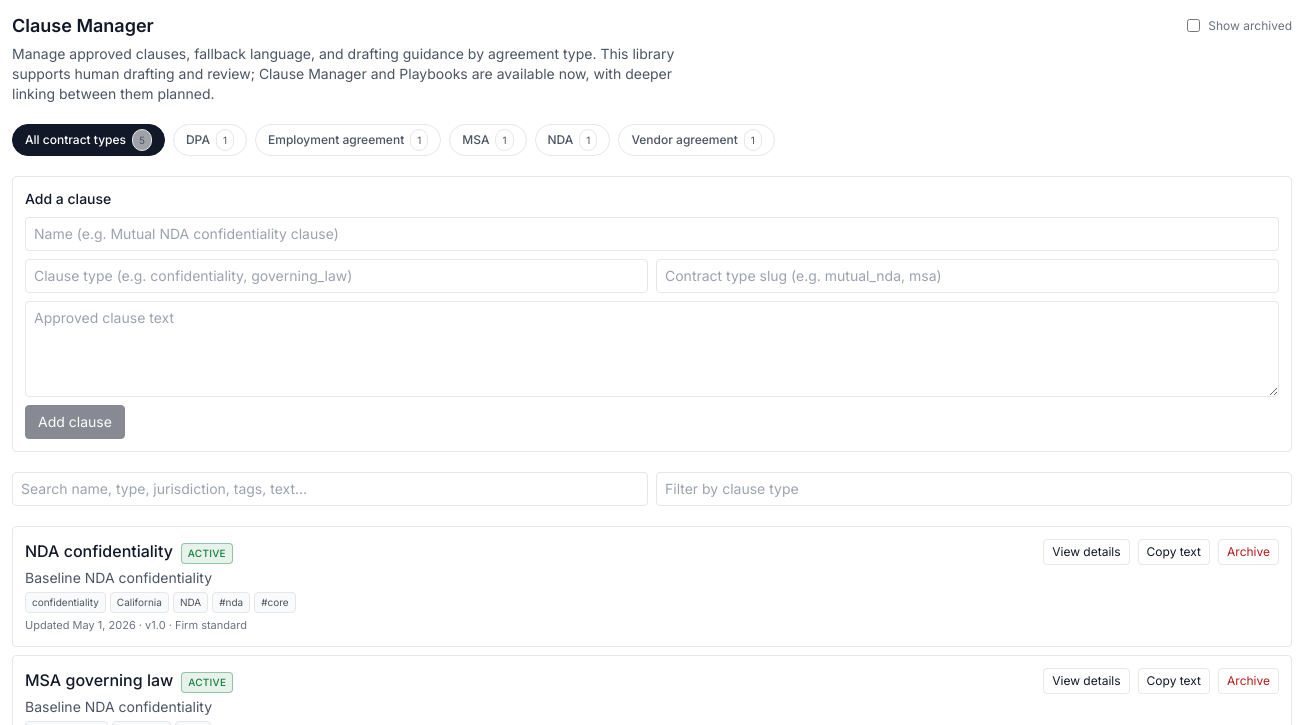
it: ClauseLibraryPage › shows a Reset filters button when any filter is active and clears all three
Expected: the text "NDA confidentiality" is shown, [25,539,173,563]
Type "nda" into the field with test id "clause-search".
click(330, 489); type("nda")  # box [12,472,648,506]
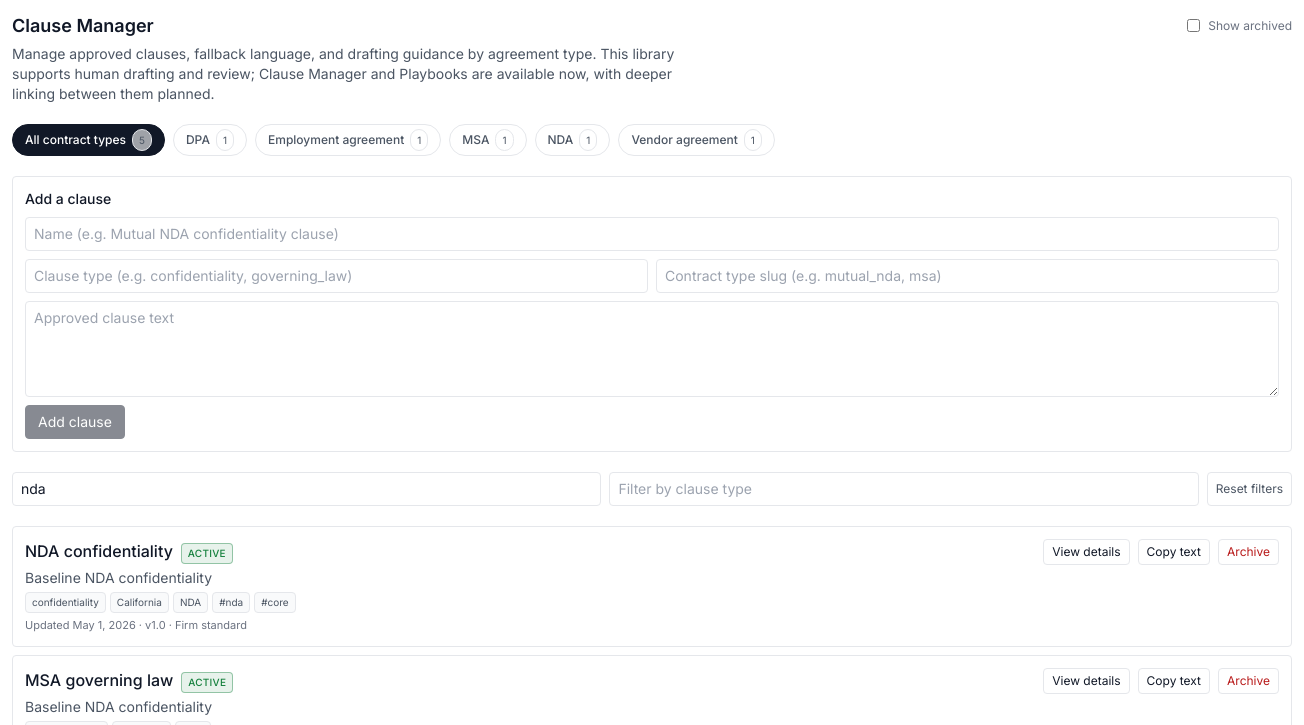
Result: the button with test id "clause-reset-filters" is shown
Click the button with test id "clause-reset-filters".
click(1249, 489)  # box [1207,472,1292,506]
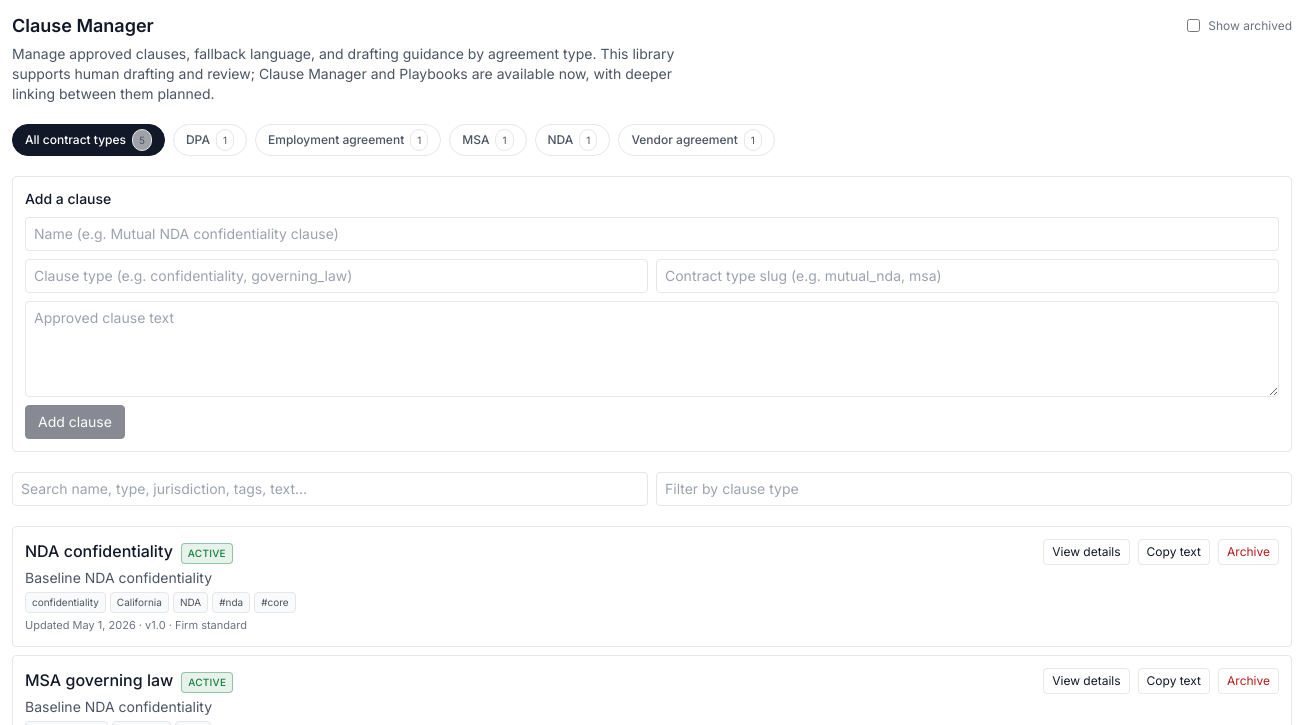
Result: the field with test id "clause-search" is empty at [12,472,648,506]
Result: the button with test id "clause-reset-filters" is gone
